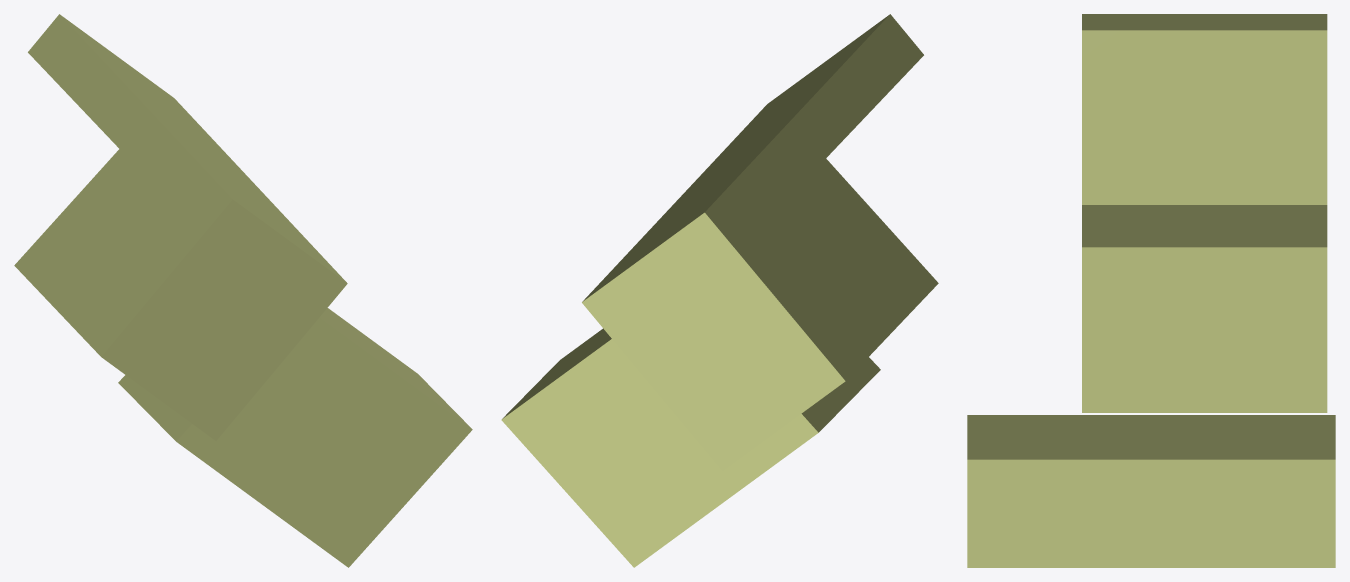
3 views of the same model, side by side, from view 1: azimuth 30°, elevation 25°; view 2: azimuth 150°, elevation 25°; view 3: azimuth 270°, elevation 25° (orthographic). The views are drawn at different scales.
Visible parts, largest first — view 1: 0_1_1_3_2_2_3_3_3_3_2; view 2: 0_1_1_3_2_2_3_3_3_3_2; view 3: 0_1_1_3_2_2_3_3_3_3_2.
Part boxes in pixels (x1,y1,x2,y2): 0_1_1_3_2_2_3_3_3_3_2: [14, 14, 472, 567]; 0_1_1_3_2_2_3_3_3_3_2: [501, 14, 938, 567]; 0_1_1_3_2_2_3_3_3_3_2: [967, 14, 1335, 567].
Size of the model in its own units: 8.74 by 13.24 by 9.
